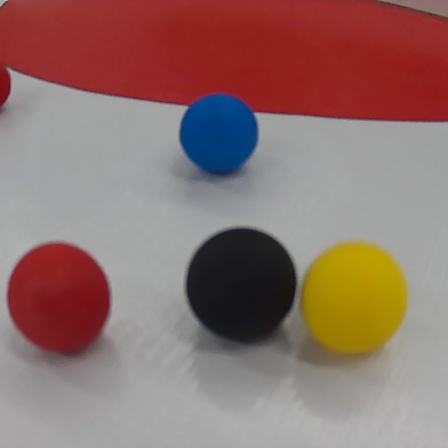black: (177, 228, 299, 342)
blue: (179, 91, 260, 174)
red: (9, 241, 114, 355)
red_base: (0, 1, 448, 125)
yellow: (299, 239, 410, 357)
